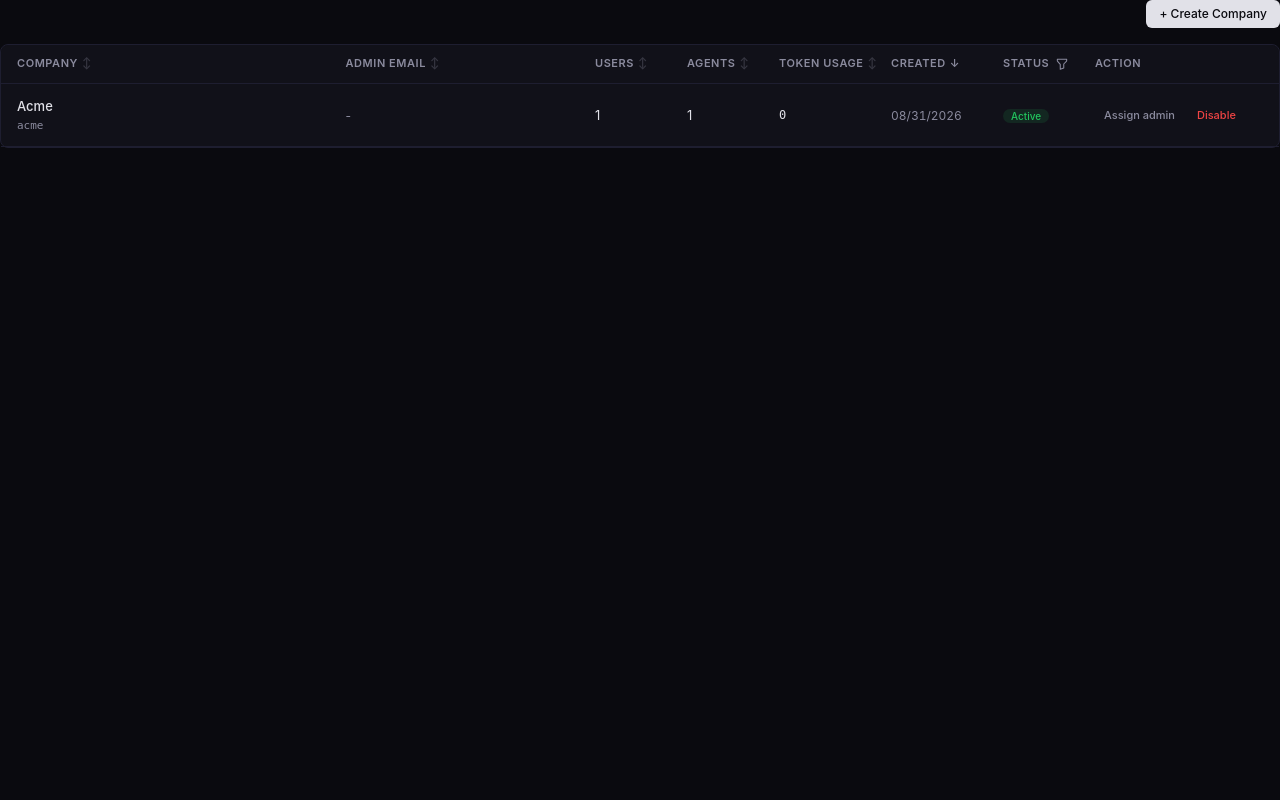
Test: AdminCompaniesSection assignment authority flow › shows the one-time administrator invitation returned by company creation
Click the button "+ Create Company" at point(1213, 14), box left=1146, top=0, right=1279, bottom=28
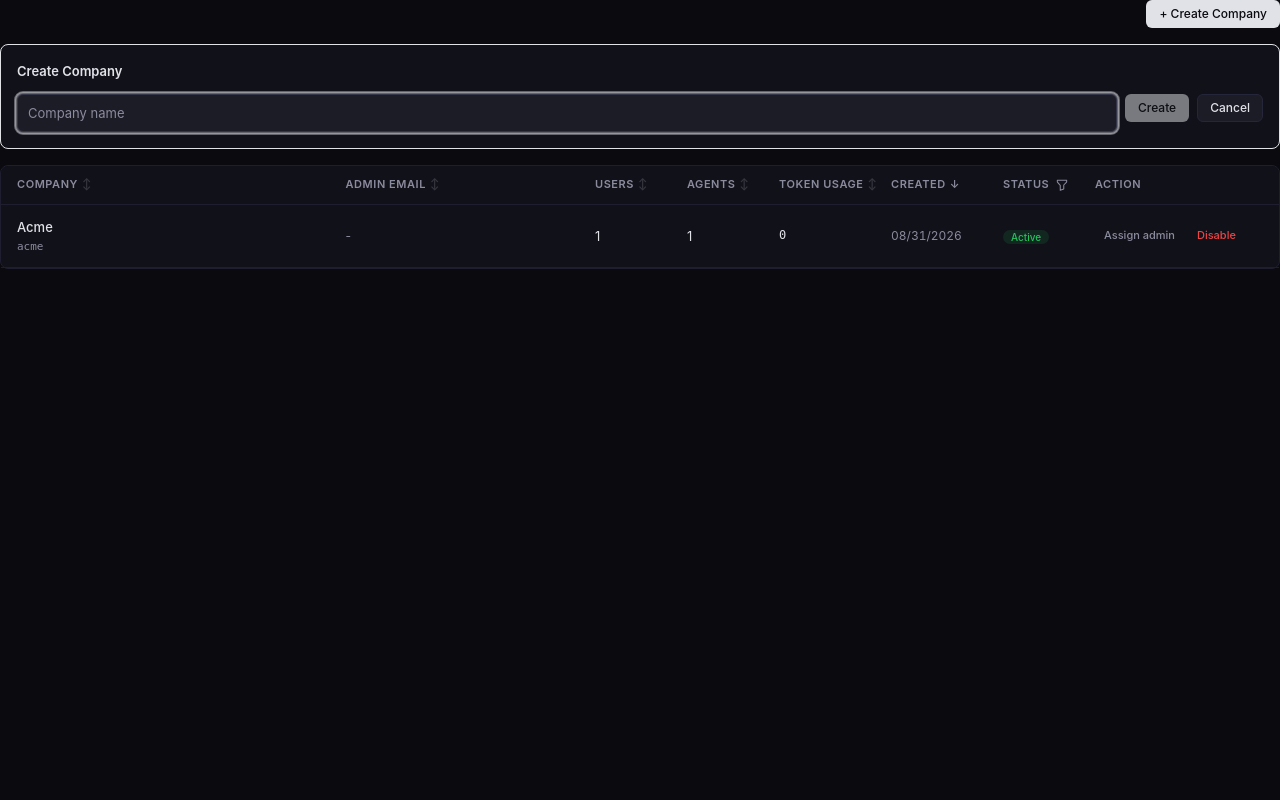
Type "Northwind" into the field with placeholder "Company name" at point(567, 113), box left=17, top=94, right=1117, bottom=132
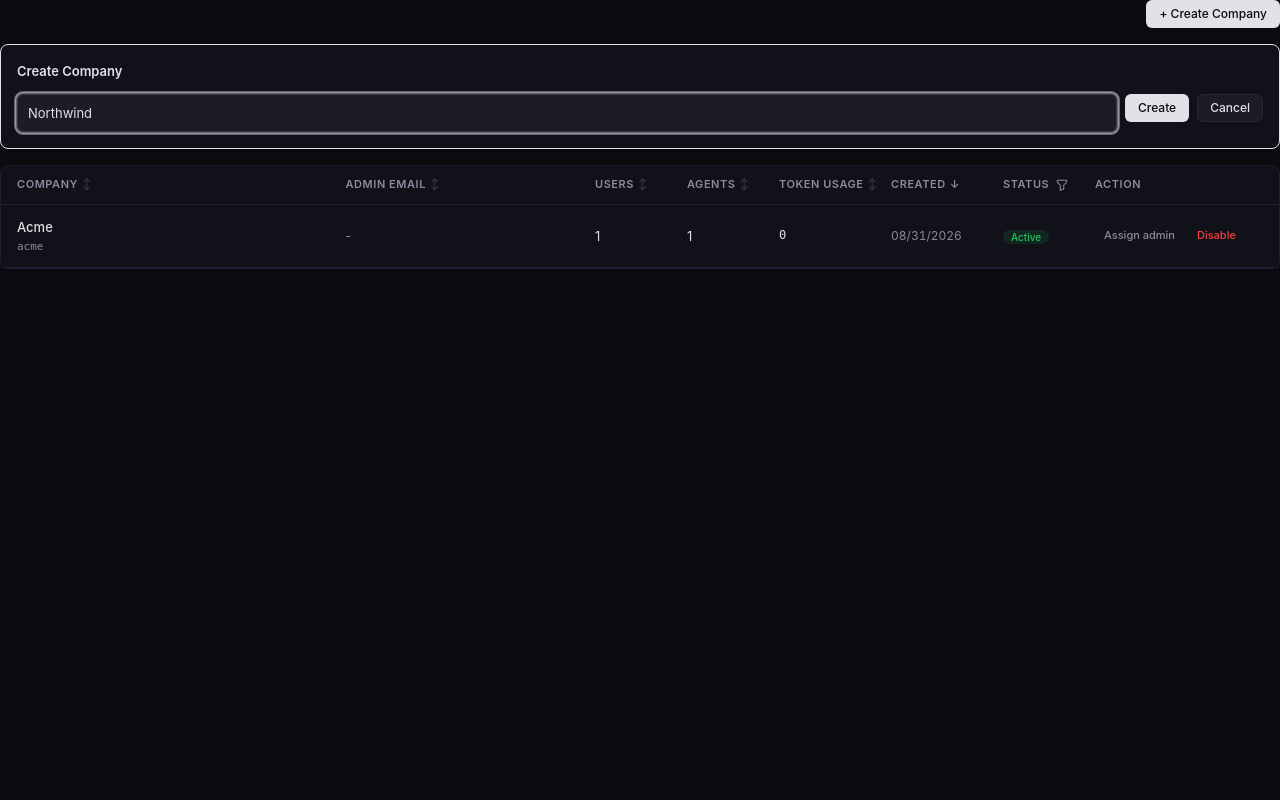
Click the button "Create" at point(1157, 108), box left=1125, top=94, right=1189, bottom=122
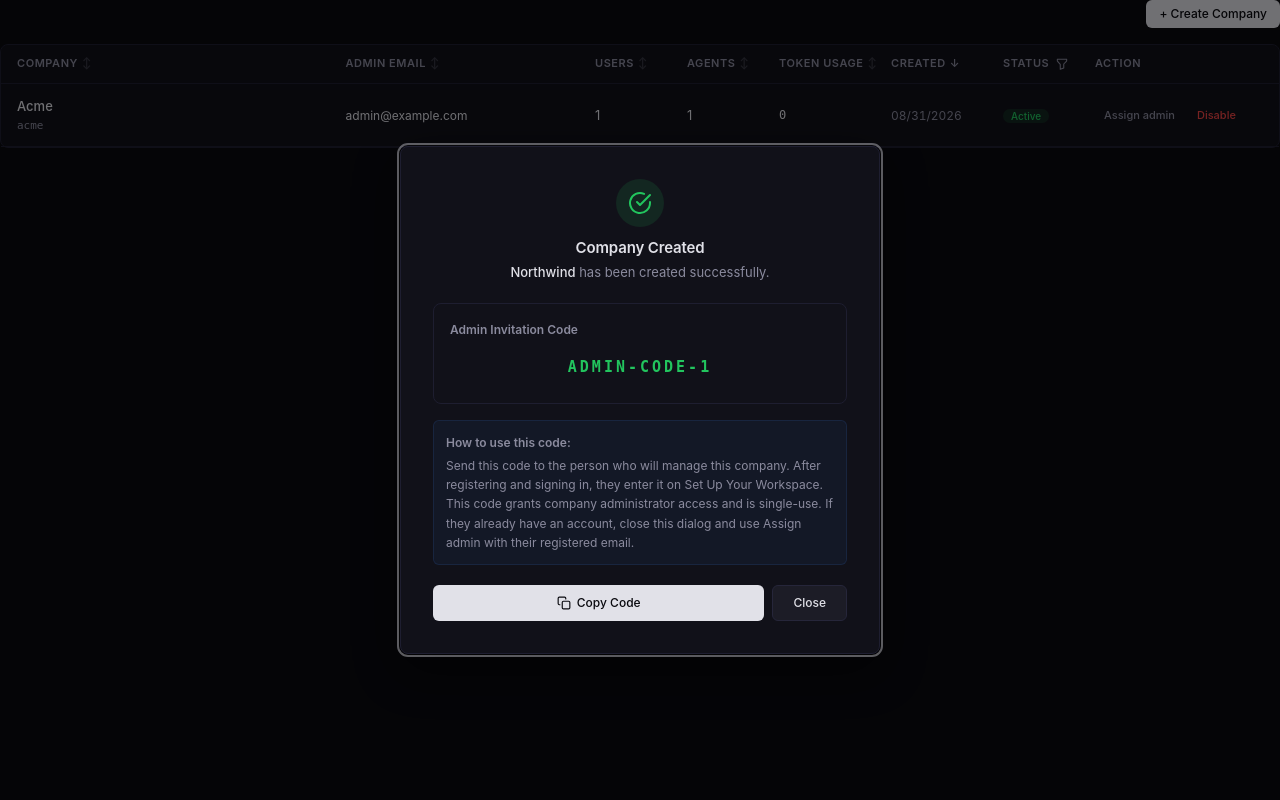
Check: the text "ADMIN-CODE-1" is shown, box left=568, top=358, right=712, bottom=376
Check: the dialog "Company Created" is shown, box left=400, top=146, right=880, bottom=654
Check: the text "Northwind" is shown, box left=510, top=264, right=576, bottom=280
Click the button "Close" at point(810, 603), box left=772, top=585, right=847, bottom=621
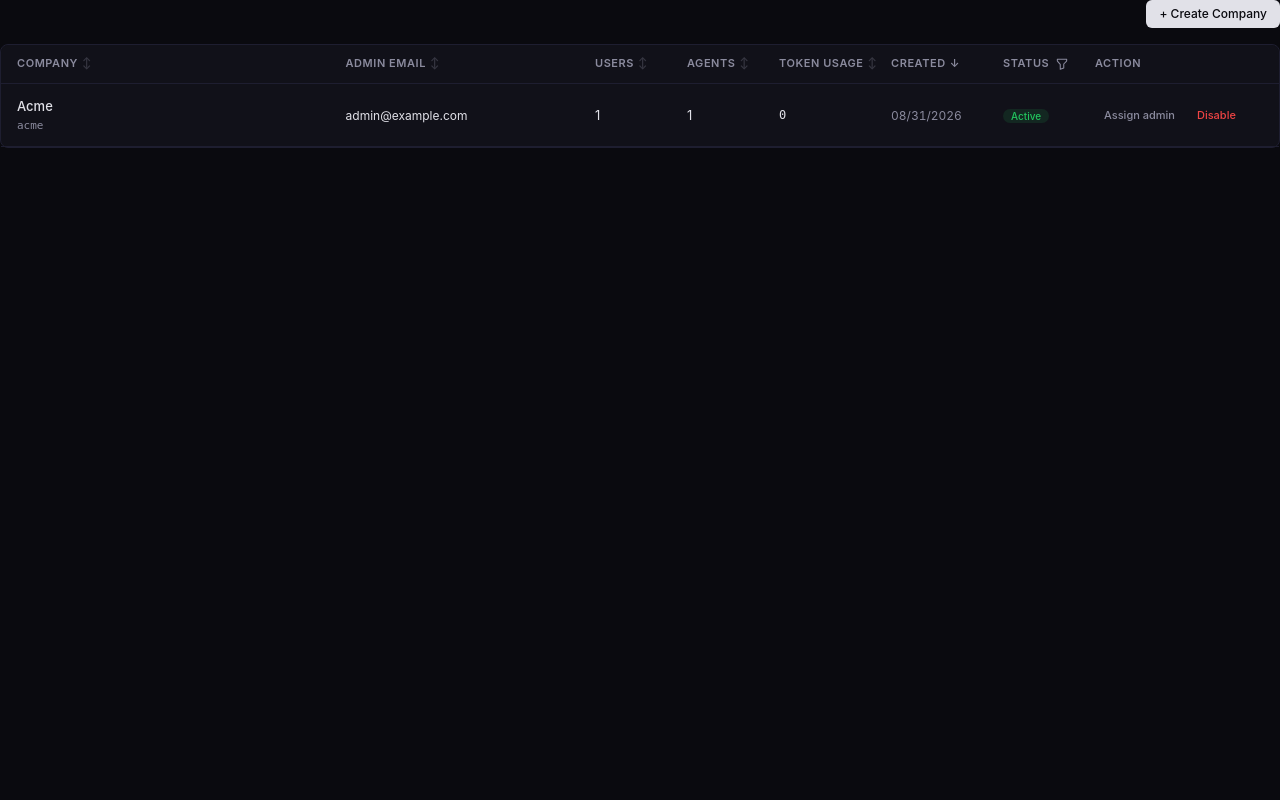
Check: the text "ADMIN-CODE-1" is gone
